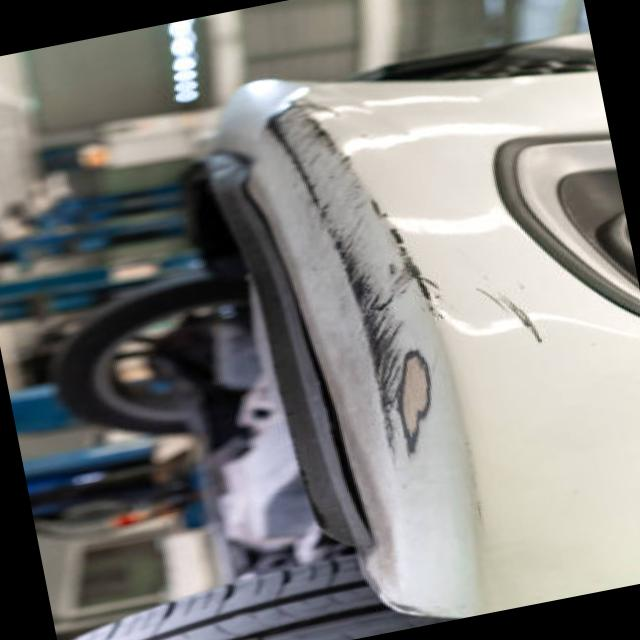Scratch: (261, 101, 456, 343), (375, 344, 431, 456), (477, 287, 541, 342), (292, 98, 333, 115)
